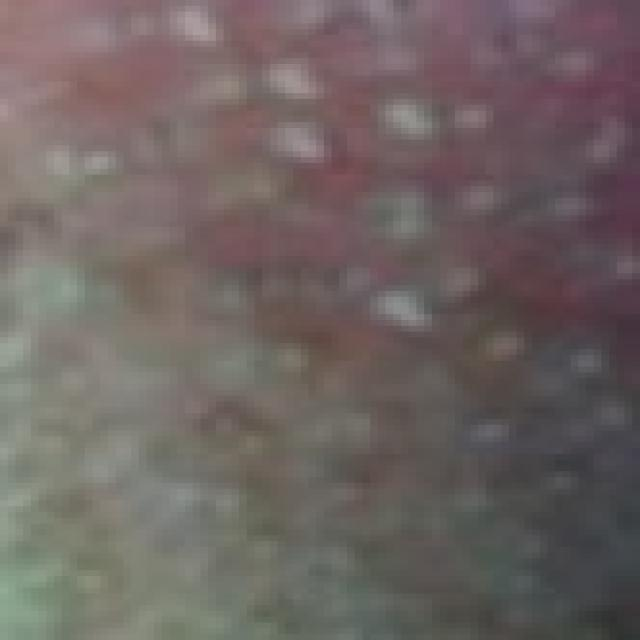whitehead: (28, 0, 639, 639)
